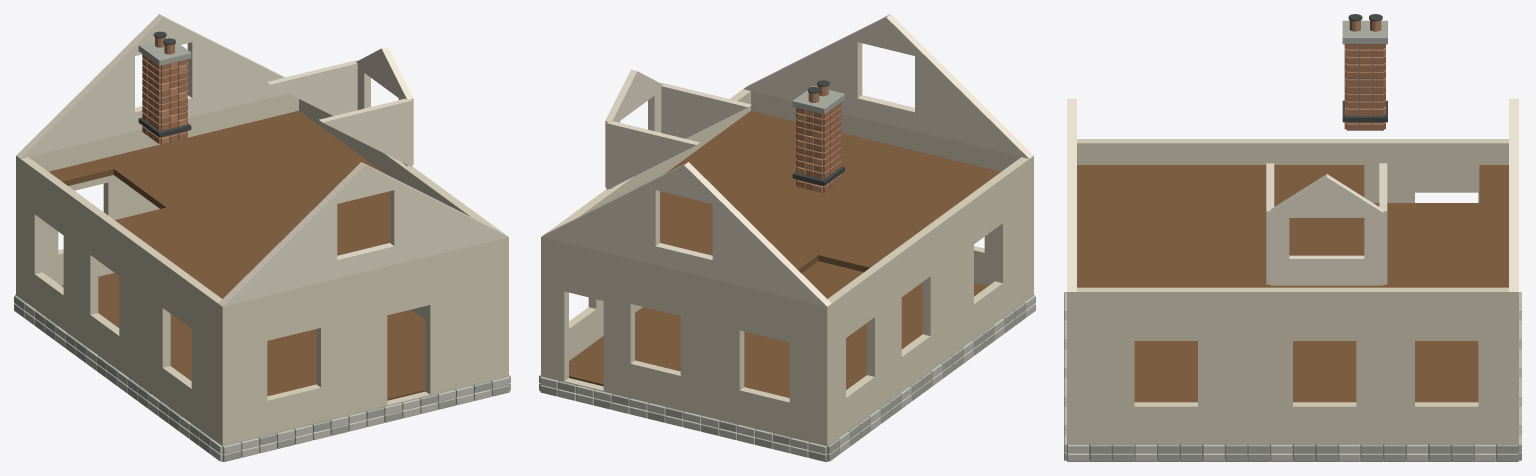
Rendered from SM_PlayerHouse_Blockout.fbx.
3 renders of one model, left to right at view 1: azimuth 30°, elevation 25°; view 2: azimuth 150°, elevation 25°; view 3: azimuth 270°, elevation 25°, orthographic. The views are drawn at different scales.
Parts seen in each view (by area): view 1: SM_PlayerHouse_Blockout; view 2: SM_PlayerHouse_Blockout; view 3: SM_PlayerHouse_Blockout.
Boxes of the visible parts, x1=… form: SM_PlayerHouse_Blockout: x1=14, y1=14, x2=510, y2=461; SM_PlayerHouse_Blockout: x1=539, y1=14, x2=1035, y2=461; SM_PlayerHouse_Blockout: x1=1064, y1=14, x2=1521, y2=461.
Size of what is drawn, in the model's own units: 813 by 1013 by 816.
